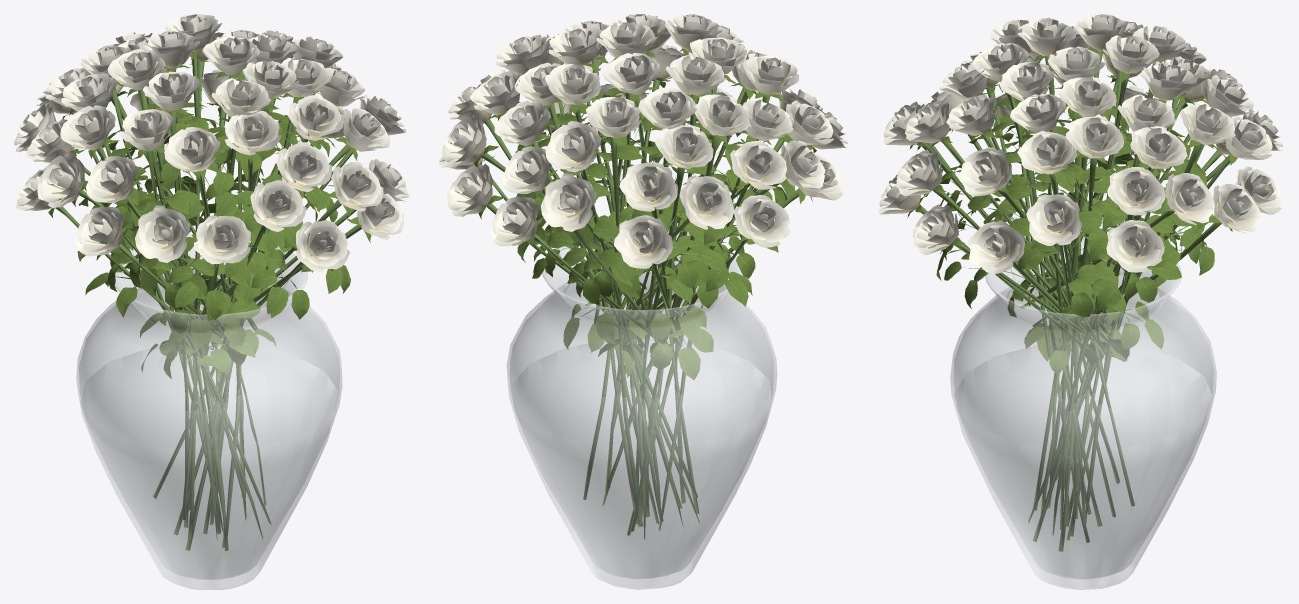
Rendered from rose-bouquet.glb.
3 renders of one model, left to right at view 1: azimuth 30°, elevation 25°; view 2: azimuth 150°, elevation 25°; view 3: azimuth 270°, elevation 25°, orthographic.
Visible parts, largest first — view 1: Line417; view 2: Line417; view 3: Line417.
Boxes of the visible parts, x1,y1,x2,y2 form: Line417: (14, 14, 409, 589); Line417: (438, 14, 848, 589); Line417: (878, 14, 1282, 589).
Bounding box in the file's own units: 0.4189 × 0.6057 × 0.4217.
Materials: 6 (2 with a texture image).
